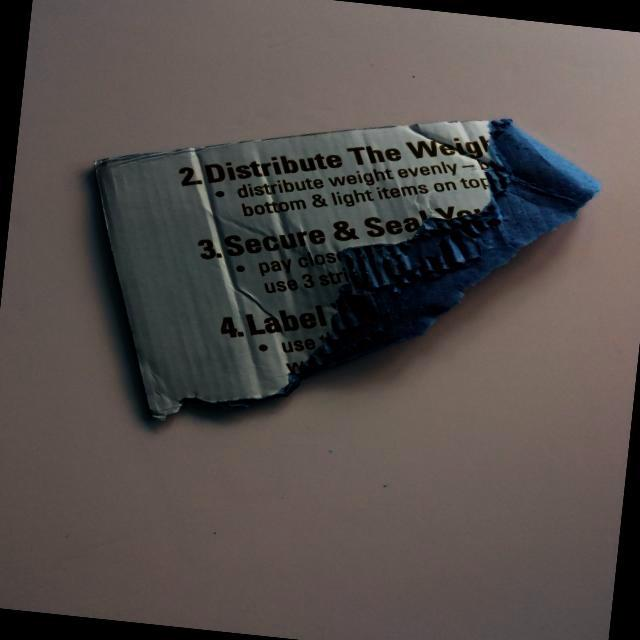cardboard: (48, 67, 640, 485)
